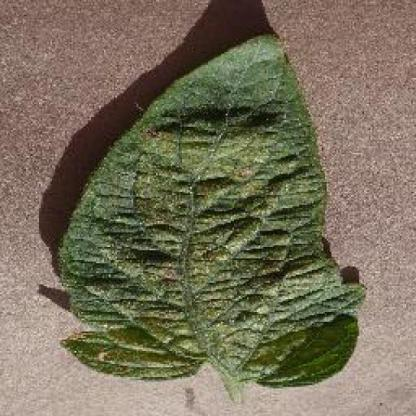Tomato_Spider_Mites: (64, 39, 365, 383)
